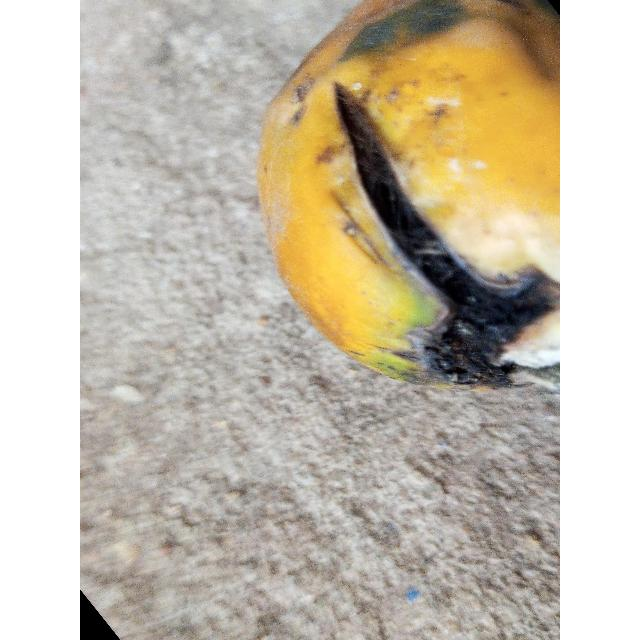damaged: (258, 0, 560, 390)
